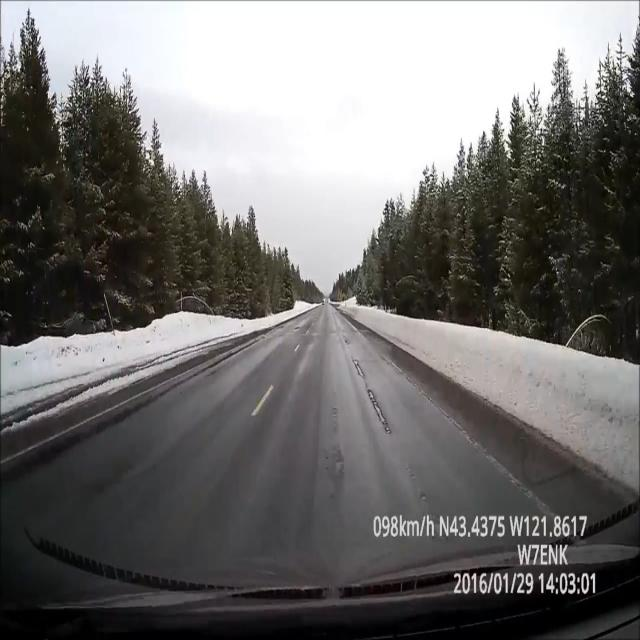Pothole: (364, 384, 398, 444), (340, 336, 364, 381)
